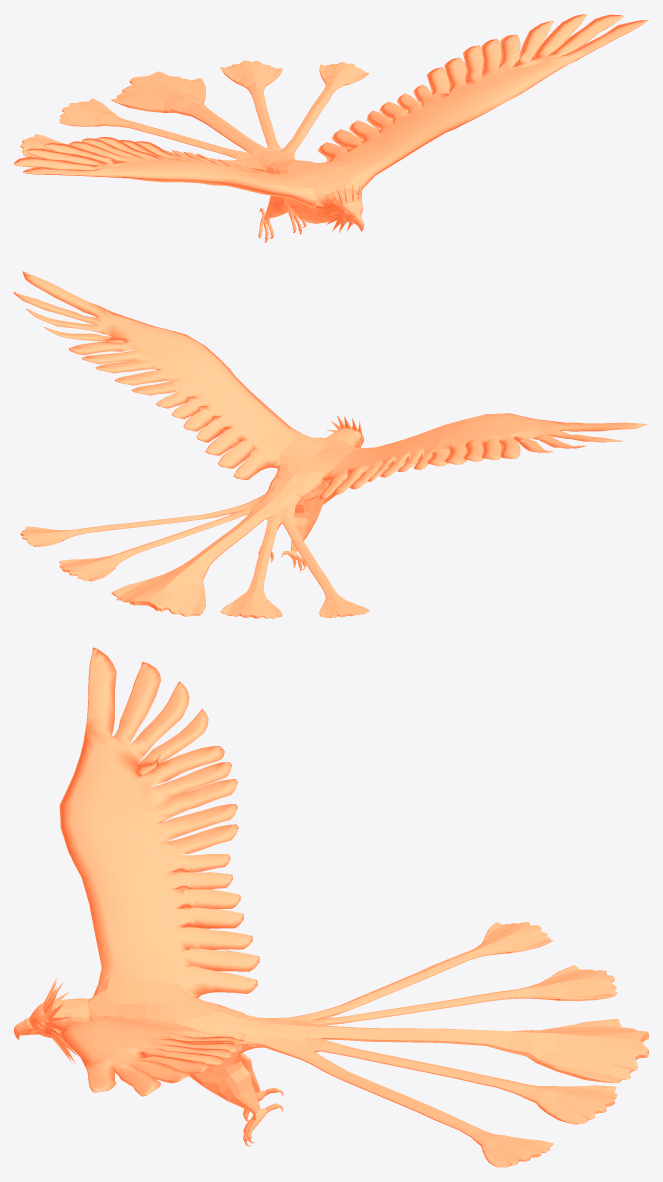
Rendered from phoenix use for rig.FBX.
3 views of the same model, one above another, from view 1: azimuth 30°, elevation 25°; view 2: azimuth 150°, elevation 25°; view 3: azimuth 270°, elevation 25° (orthographic). The views are drawn at different scales.
Visible parts, largest first — view 1: phoenix003; view 2: phoenix003; view 3: phoenix003.
Part boxes in pixels (x1,y1,x2,y2): phoenix003: (14, 14, 648, 242); phoenix003: (14, 271, 647, 618); phoenix003: (14, 647, 648, 1167).
Bounding box in the file's own units: 68.02 × 18.83 × 40.99.
